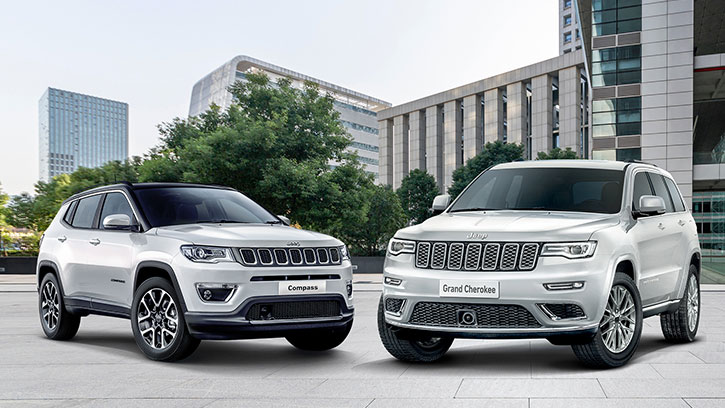car: (378, 157, 702, 370), (35, 181, 354, 362)
